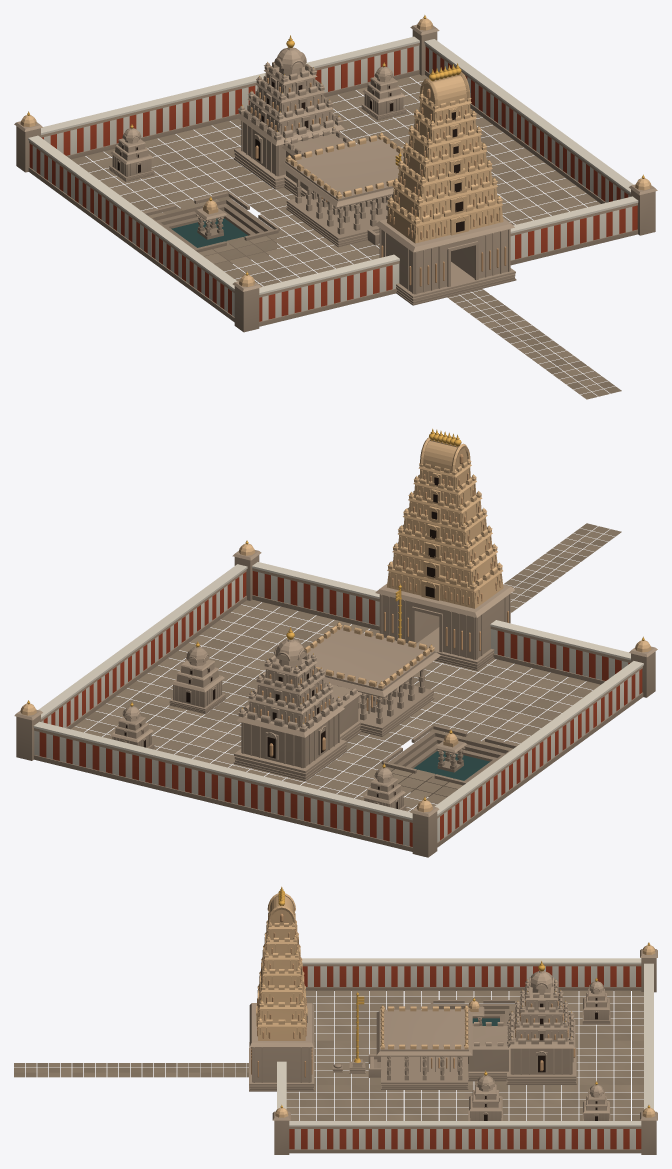
File: temple.glb
3 views of the same model, one above another, from view 1: azimuth 30°, elevation 25°; view 2: azimuth 150°, elevation 25°; view 3: azimuth 270°, elevation 25° (orthographic). The views are drawn at different scales.
Visible parts, largest first — view 1: ground:paving, prakara:limewash, prakara:ochre, gopuram:stucco, prakara:granite, vimana:granite, mandapa:granite, gopuram:granite, pushkarini:granite, shrines:granite, gopuram:sculpture, mandapa:stucco (+3 smaller); view 2: ground:paving, prakara:limewash, prakara:ochre, prakara:granite, vimana:granite, gopuram:stucco, mandapa:granite, gopuram:granite, shrines:granite, pushkarini:granite, gopuram:sculpture, mandapa:stucco (+3 smaller); view 3: ground:paving, prakara:limewash, vimana:granite, prakara:ochre, mandapa:granite, prakara:granite, gopuram:stucco, gopuram:granite, shrines:granite, pushkarini:granite, mandapa:stucco, gopuram:sculpture (+1 smaller).
Boxes of the visible parts, left/top/right/bottom form: ground:paving: left=71, top=74, right=621, bottom=399; prakara:limewash: left=28, top=36, right=638, bottom=320; prakara:ochre: left=29, top=47, right=637, bottom=321; gopuram:stucco: left=387, top=94, right=503, bottom=243; prakara:granite: left=14, top=24, right=657, bottom=332; vimana:granite: left=233, top=47, right=387, bottom=214; mandapa:granite: left=279, top=138, right=403, bottom=247; gopuram:granite: left=375, top=218, right=516, bottom=305; pushkarini:granite: left=143, top=192, right=279, bottom=264; shrines:granite: left=109, top=66, right=406, bottom=181; gopuram:sculpture: left=381, top=107, right=506, bottom=286; mandapa:stucco: left=286, top=133, right=404, bottom=198; ground:paving: left=71, top=523, right=621, bottom=811; prakara:limewash: left=33, top=562, right=643, bottom=846; prakara:ochre: left=39, top=571, right=642, bottom=846; prakara:granite: left=14, top=550, right=657, bottom=857; vimana:granite: left=233, top=639, right=387, bottom=781; gopuram:stucco: left=387, top=459, right=503, bottom=608; mandapa:granite: left=307, top=628, right=440, bottom=736; gopuram:granite: left=375, top=583, right=514, bottom=670; shrines:granite: left=110, top=646, right=406, bottom=810; pushkarini:granite: left=381, top=725, right=517, bottom=796; gopuram:sculpture: left=384, top=473, right=508, bottom=651; mandapa:stucco: left=304, top=623, right=434, bottom=688; ground:paving: left=14, top=990, right=643, bottom=1120; prakara:limewash: left=277, top=958, right=653, bottom=1149; vimana:granite: left=420, top=971, right=576, bottom=1084; prakara:ochre: left=289, top=966, right=641, bottom=1149; mandapa:granite: left=368, top=1009, right=472, bottom=1089; prakara:granite: left=272, top=949, right=657, bottom=1154; gopuram:stucco: left=256, top=910, right=307, bottom=1040; gopuram:granite: left=249, top=1003, right=314, bottom=1091; shrines:granite: left=468, top=981, right=610, bottom=1120; pushkarini:granite: left=430, top=1000, right=516, bottom=1025; mandapa:stucco: left=380, top=1006, right=468, bottom=1049; gopuram:sculpture: left=251, top=928, right=312, bottom=1077.
Size of what is drawn, in the model's own units: 69.1 by 37.31 by 110.
